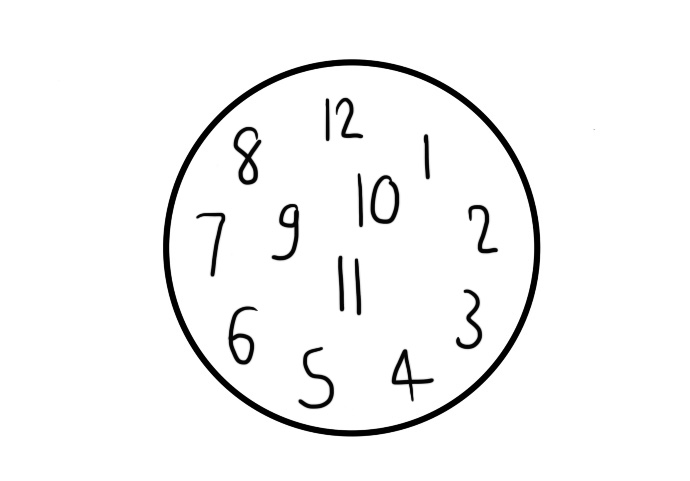eight: (233, 125, 261, 185)
eleven: (333, 252, 366, 317)
five: (298, 346, 335, 410)
four: (389, 344, 434, 402)
nine: (267, 200, 302, 262)
one: (418, 130, 435, 183)
seven: (197, 210, 226, 276)
six: (227, 302, 259, 366)
ten: (353, 170, 399, 228)
three: (452, 289, 484, 350)
twelve: (319, 92, 364, 141)
two: (467, 204, 497, 254)
